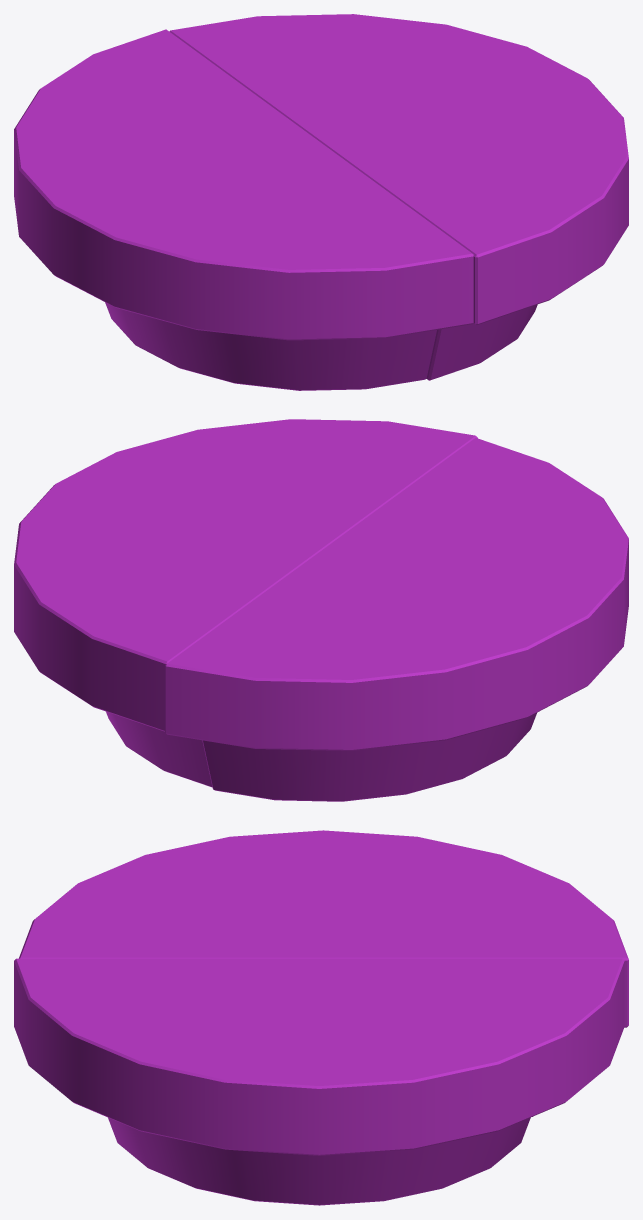
File: Statues_Grp_06A.fbx
3 renders of one model, top to bottom at view 1: azimuth 30°, elevation 25°; view 2: azimuth 150°, elevation 25°; view 3: azimuth 270°, elevation 25°, orthographic.
Visible parts, largest first — view 1: Statues_Grp_06A; view 2: Statues_Grp_06A; view 3: Statues_Grp_06A.
Part boxes in pixels (x1,y1,x2,y2): Statues_Grp_06A: (14, 14, 628, 390); Statues_Grp_06A: (14, 419, 628, 801); Statues_Grp_06A: (14, 830, 628, 1205).
Bounding box in the file's own units: 255 × 73.44 × 257.
